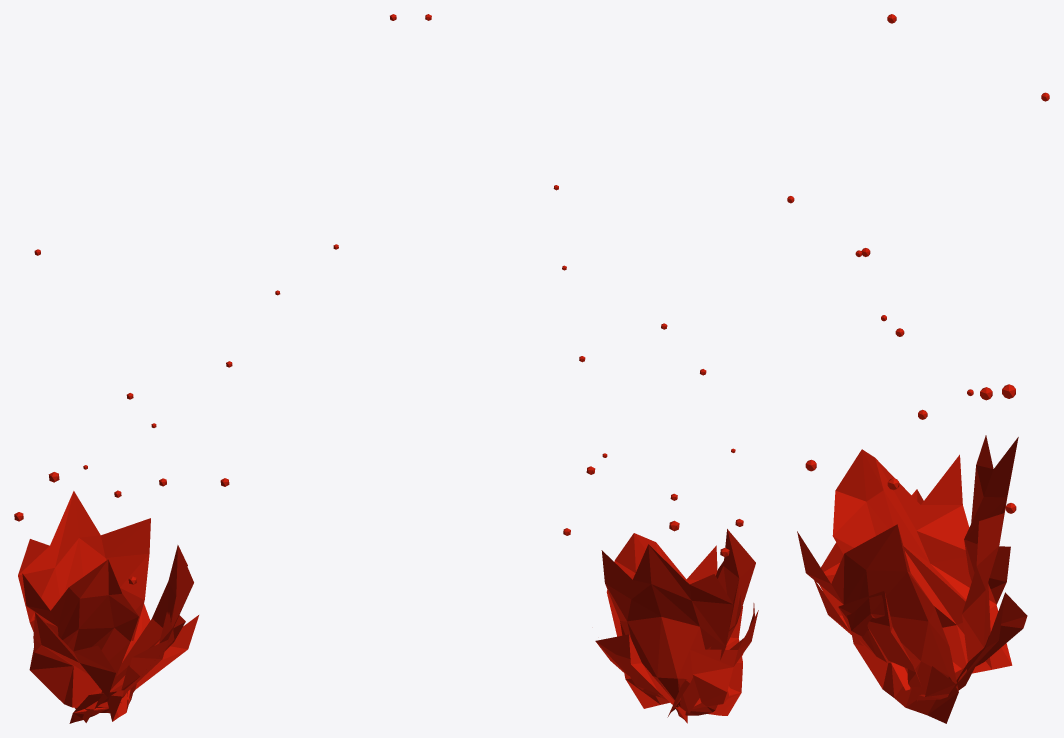
The model's file is fire.obj.
The picture shows the model from 3 angles, left to right: view 1: azimuth 30°, elevation 25°; view 2: azimuth 150°, elevation 25°; view 3: azimuth 270°, elevation 25°; orthographic projection. The views are drawn at different scales.
Parts seen in each view (by area): view 1: Fire; view 2: Fire; view 3: Fire.
Boxes of the visible parts, <box> form: Fire: <box>14,14,396,723</box>; Fire: <box>425,14,758,723</box>; Fire: <box>787,14,1049,723</box>.
Size of the model in its own units: 1.49 by 2.61 by 0.7087.
